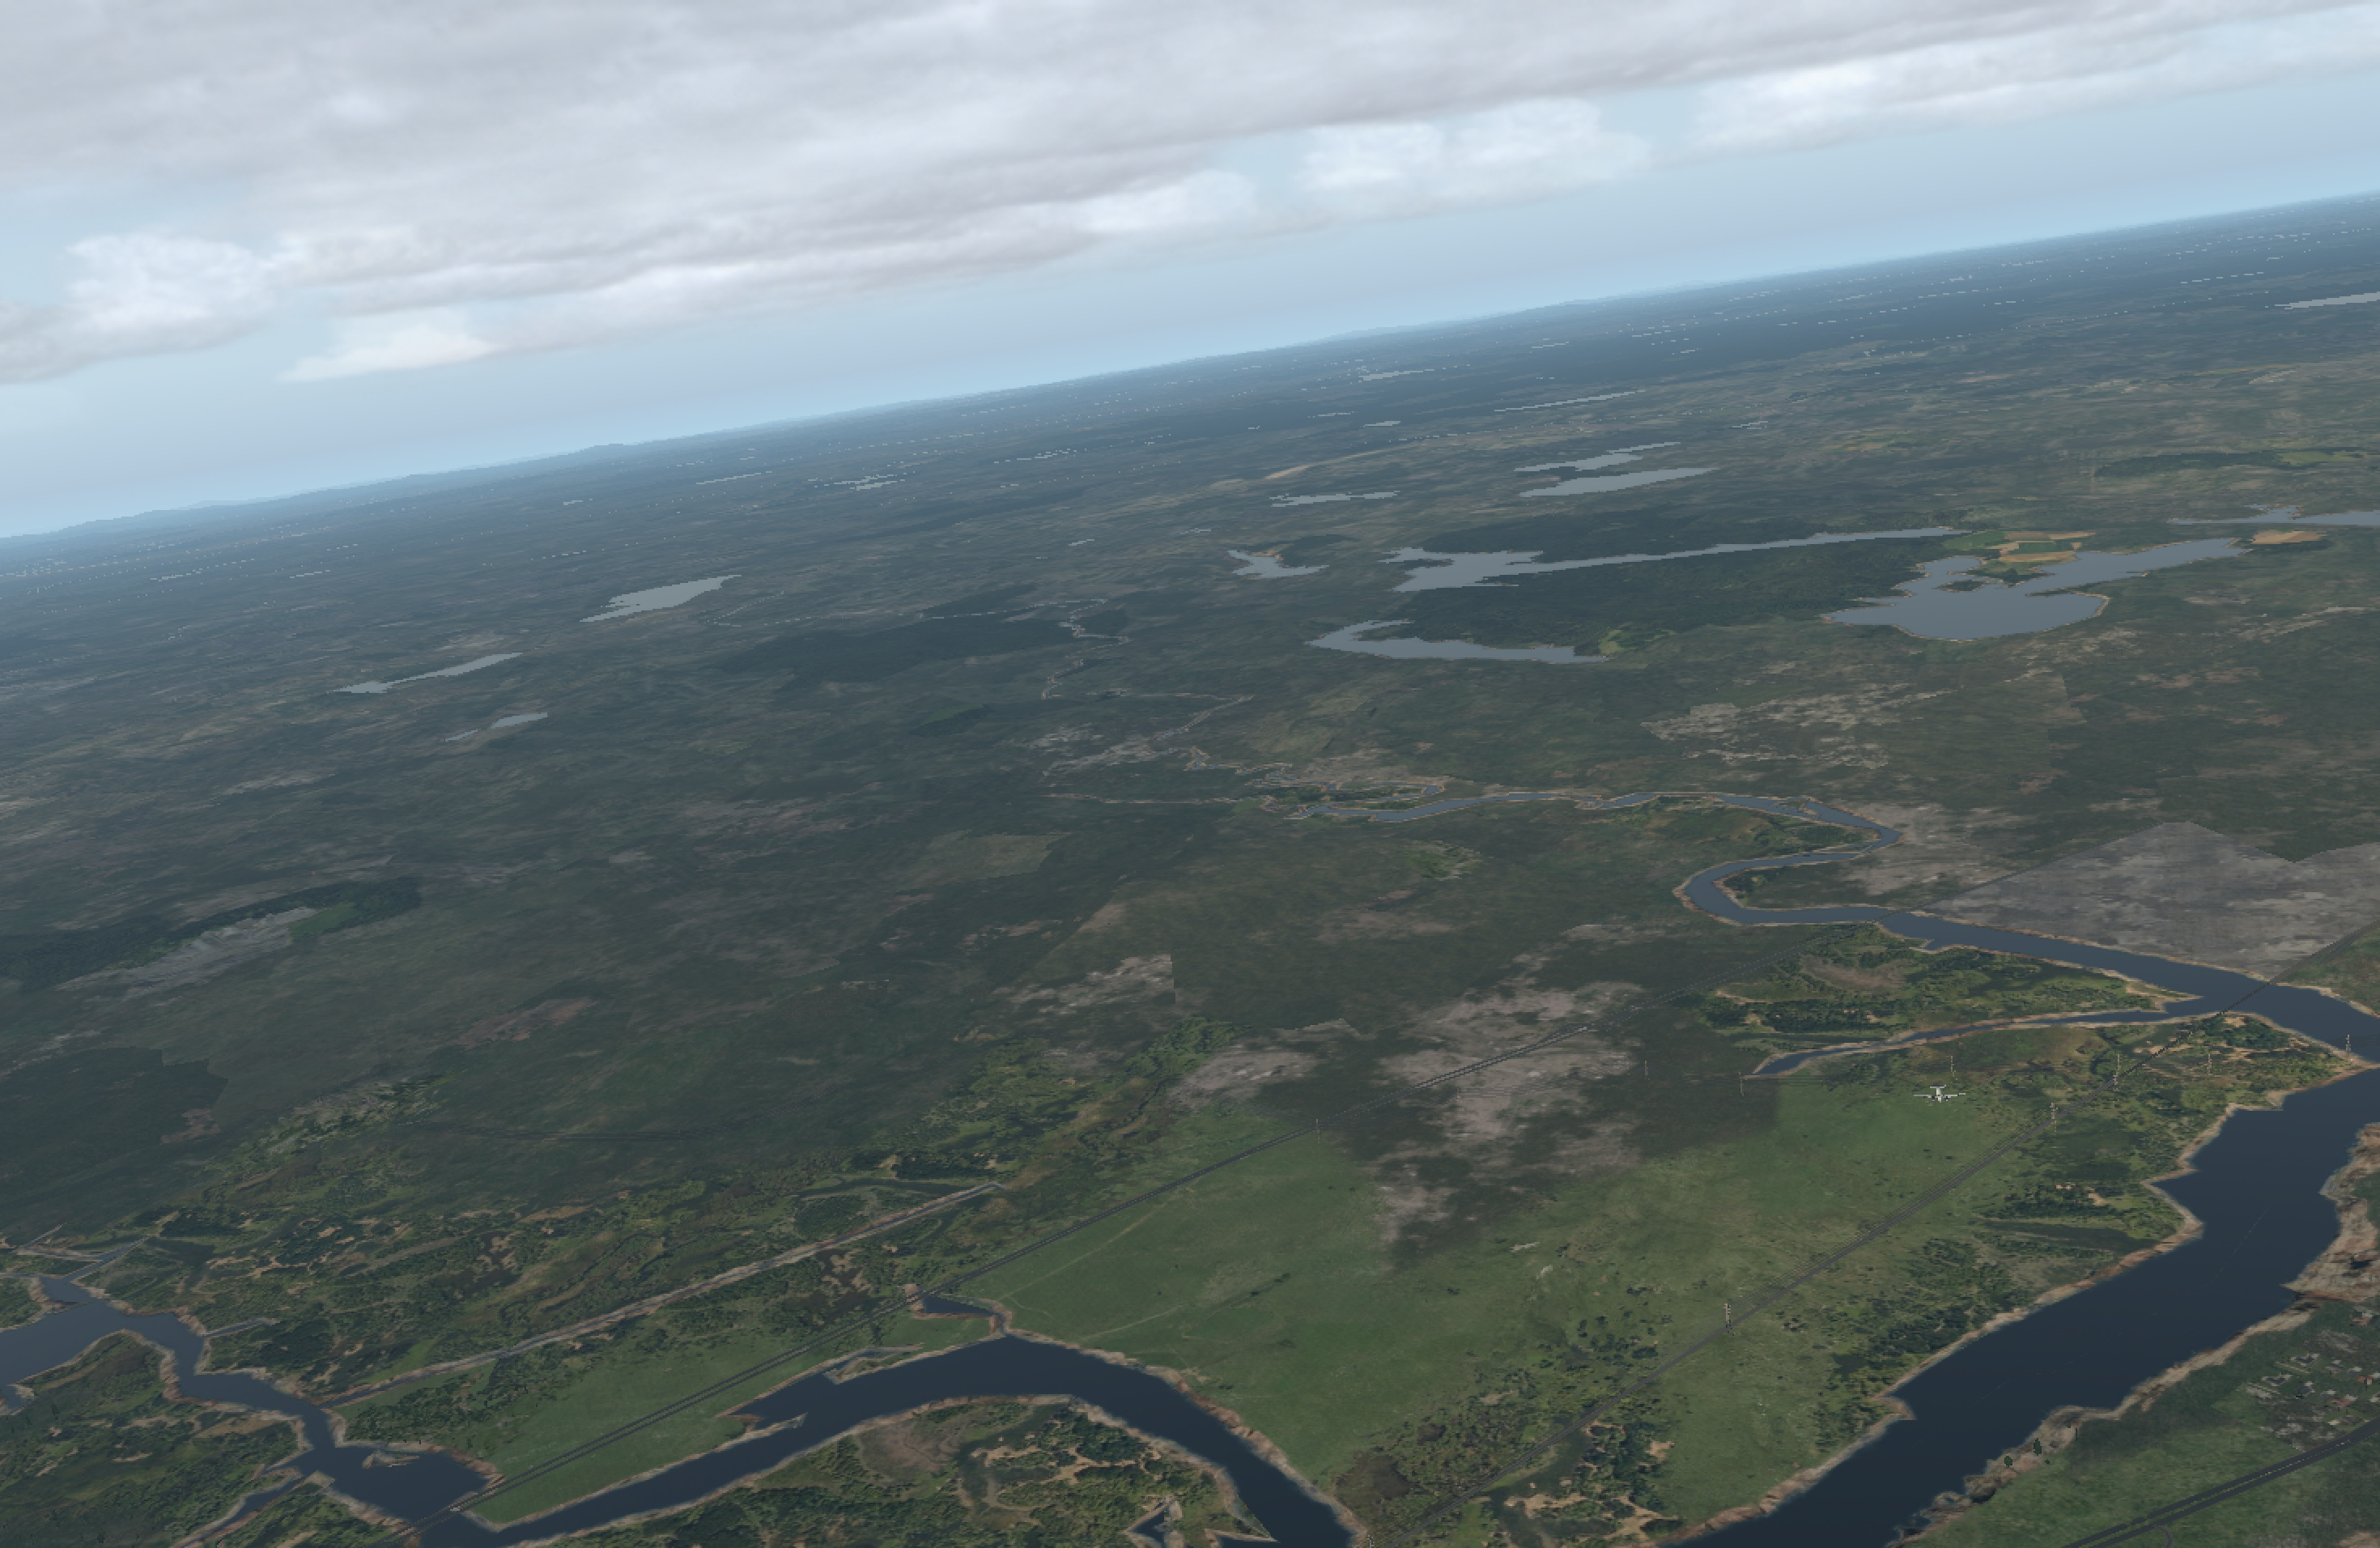aircraft: (1917, 1090, 1964, 1107)
